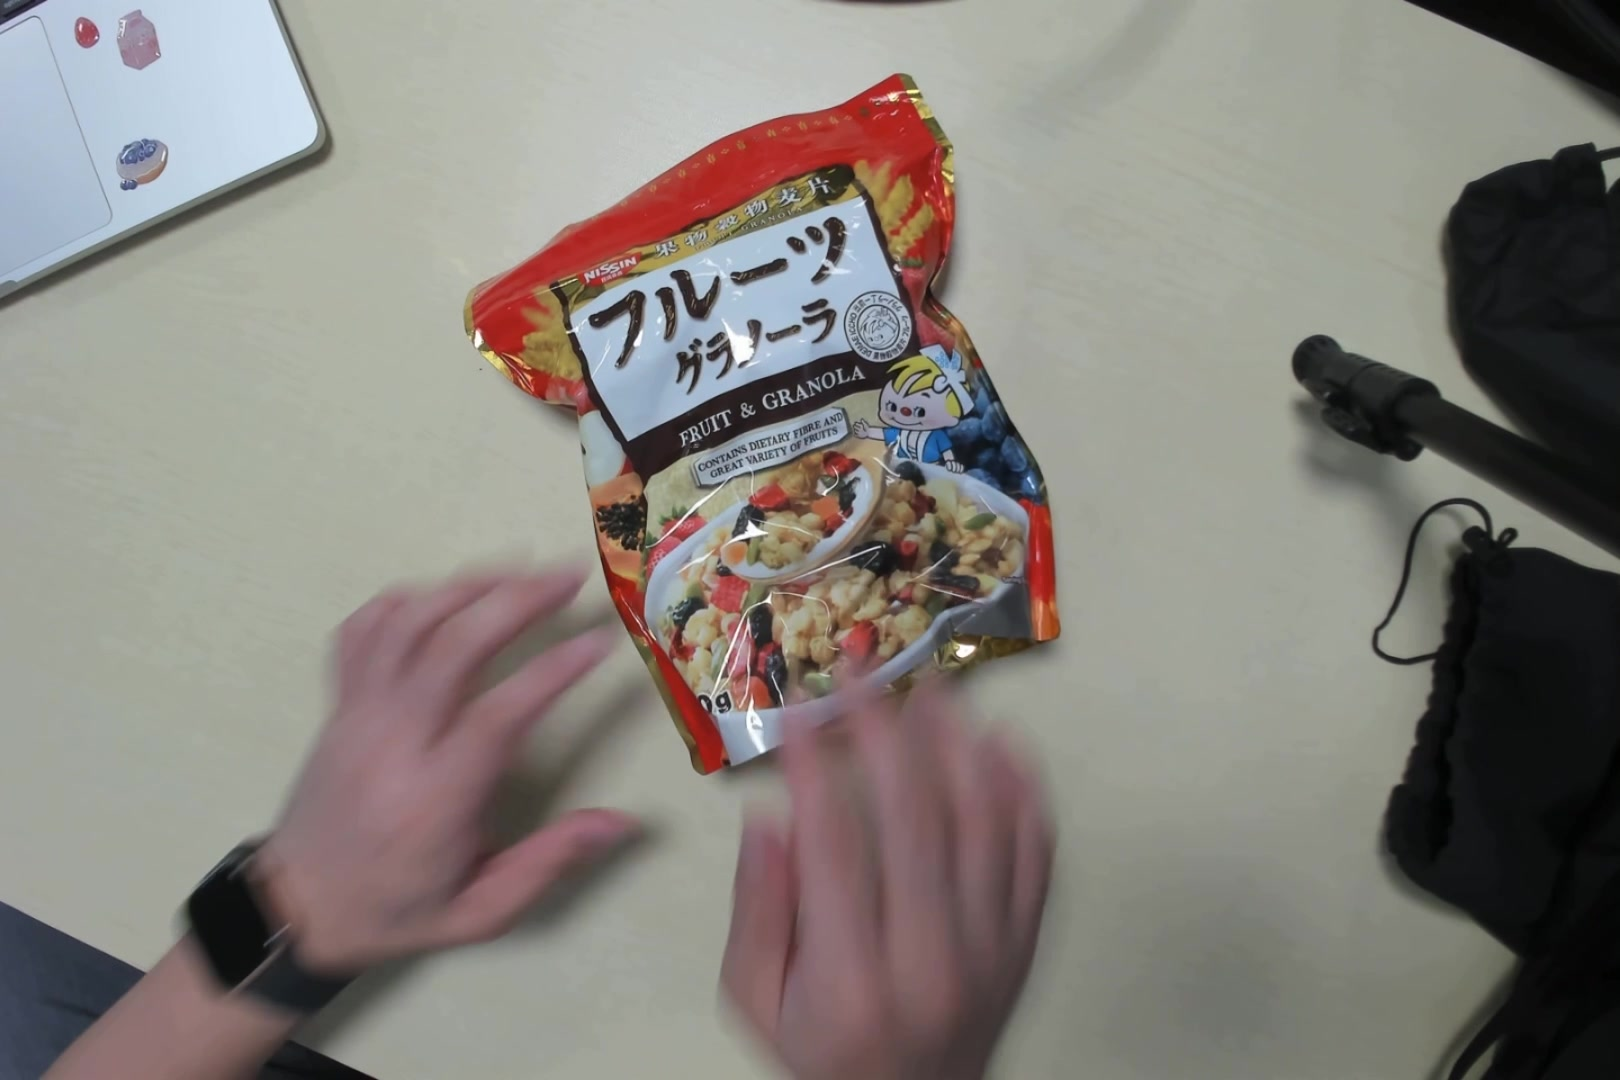BreakfastCereals_300-399g_NonHalal_NonHealthy: (472, 83, 1070, 742)
